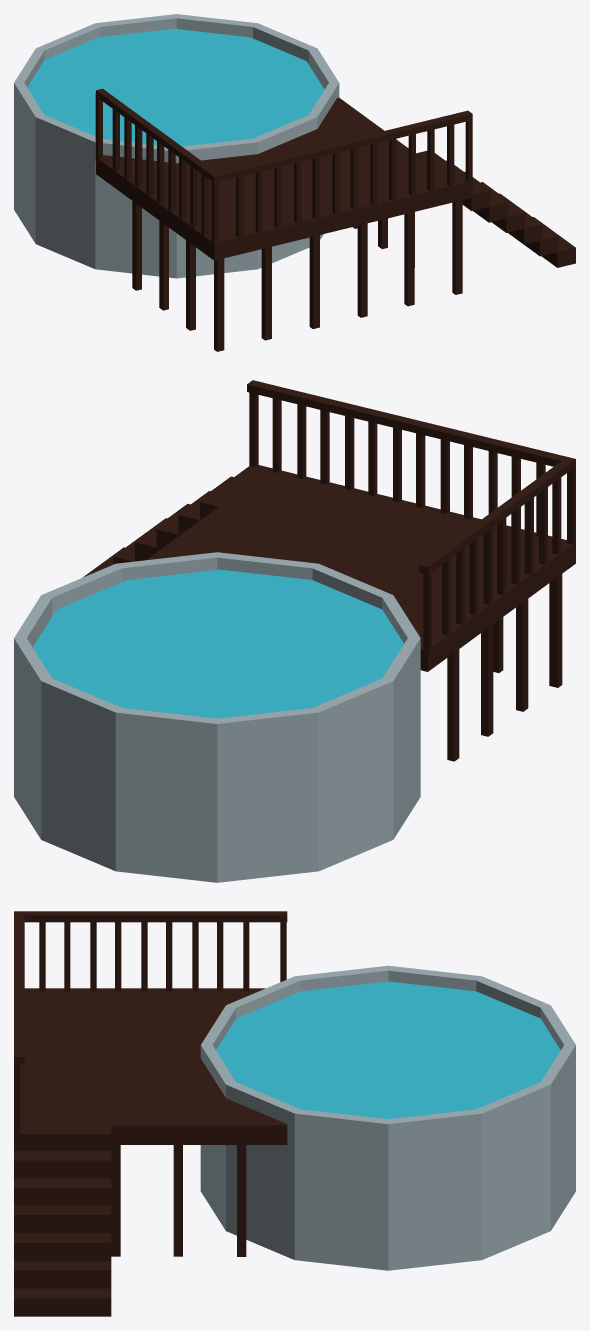
3 views of the same model, one above another, from view 1: azimuth 30°, elevation 25°; view 2: azimuth 150°, elevation 25°; view 3: azimuth 270°, elevation 25° (orthographic). The views are drawn at different scales.
Visible parts, largest first — view 1: group1792106970, group744572399, group2083928091, group384423605, group1547618798, group159245246, group821262863, group2123192079, group1725194986, group2061981351, group803940862, group1033315275 (+33 smaller); view 2: group1792106970, group744572399, group2083928091, group384423605, group1547618798, group2061981351, group1033315275, group1634295885, group22139958, group456494125, group138664171, group1633255589 (+20 smaller); view 3: group1792106970, group744572399, group2083928091, group1547618798, group932982275, group120552648, group1757804522, group1296326403, group1860434659, group1119336007, group456494125, group384423605 (+4 smaller).
Boxes of the visible parts, x1,y1,x2,y2 form: group1792106970: (14, 14, 339, 278); group744572399: (27, 28, 324, 146); group2083928091: (96, 97, 457, 260); group384423605: (209, 110, 472, 182); group1547618798: (96, 88, 221, 182); group159245246: (452, 200, 462, 294); group821262863: (357, 223, 367, 317); group2123192079: (404, 212, 414, 306); group1725194986: (309, 235, 319, 328); group2061981351: (214, 258, 224, 351); group803940862: (261, 246, 271, 340); group1033315275: (186, 240, 195, 330); group1792106970: (14, 552, 420, 882); group744572399: (33, 569, 403, 718); group2083928091: (146, 468, 575, 671); group384423605: (247, 380, 575, 470); group1547618798: (419, 457, 572, 574); group2061981351: (549, 574, 562, 687); group1033315275: (516, 599, 528, 711); group1634295885: (481, 624, 493, 736); group22139958: (447, 649, 459, 761); group456494125: (200, 465, 271, 520); group138664171: (423, 567, 432, 654); group1633255589: (416, 421, 425, 507); group1792106970: (200, 965, 575, 1270); group744572399: (216, 981, 560, 1119); group2083928091: (20, 988, 287, 1144); group1547618798: (14, 911, 287, 922); group932982275: (14, 1150, 111, 1178); group120552648: (14, 1205, 111, 1233); group1757804522: (14, 1233, 111, 1261); group1296326403: (14, 1288, 111, 1316); group1860434659: (14, 1261, 111, 1288); group1119336007: (14, 1178, 111, 1205); group456494125: (14, 1125, 111, 1150); group384423605: (14, 915, 24, 1063).
Bounding box in the file's own units: 3.26 × 1.5 × 3.64.
